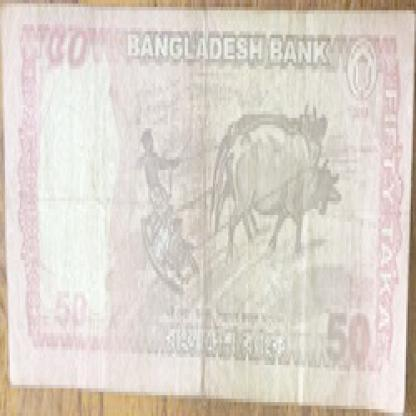Fifty taka: (318, 305, 383, 388), (38, 24, 95, 83)
